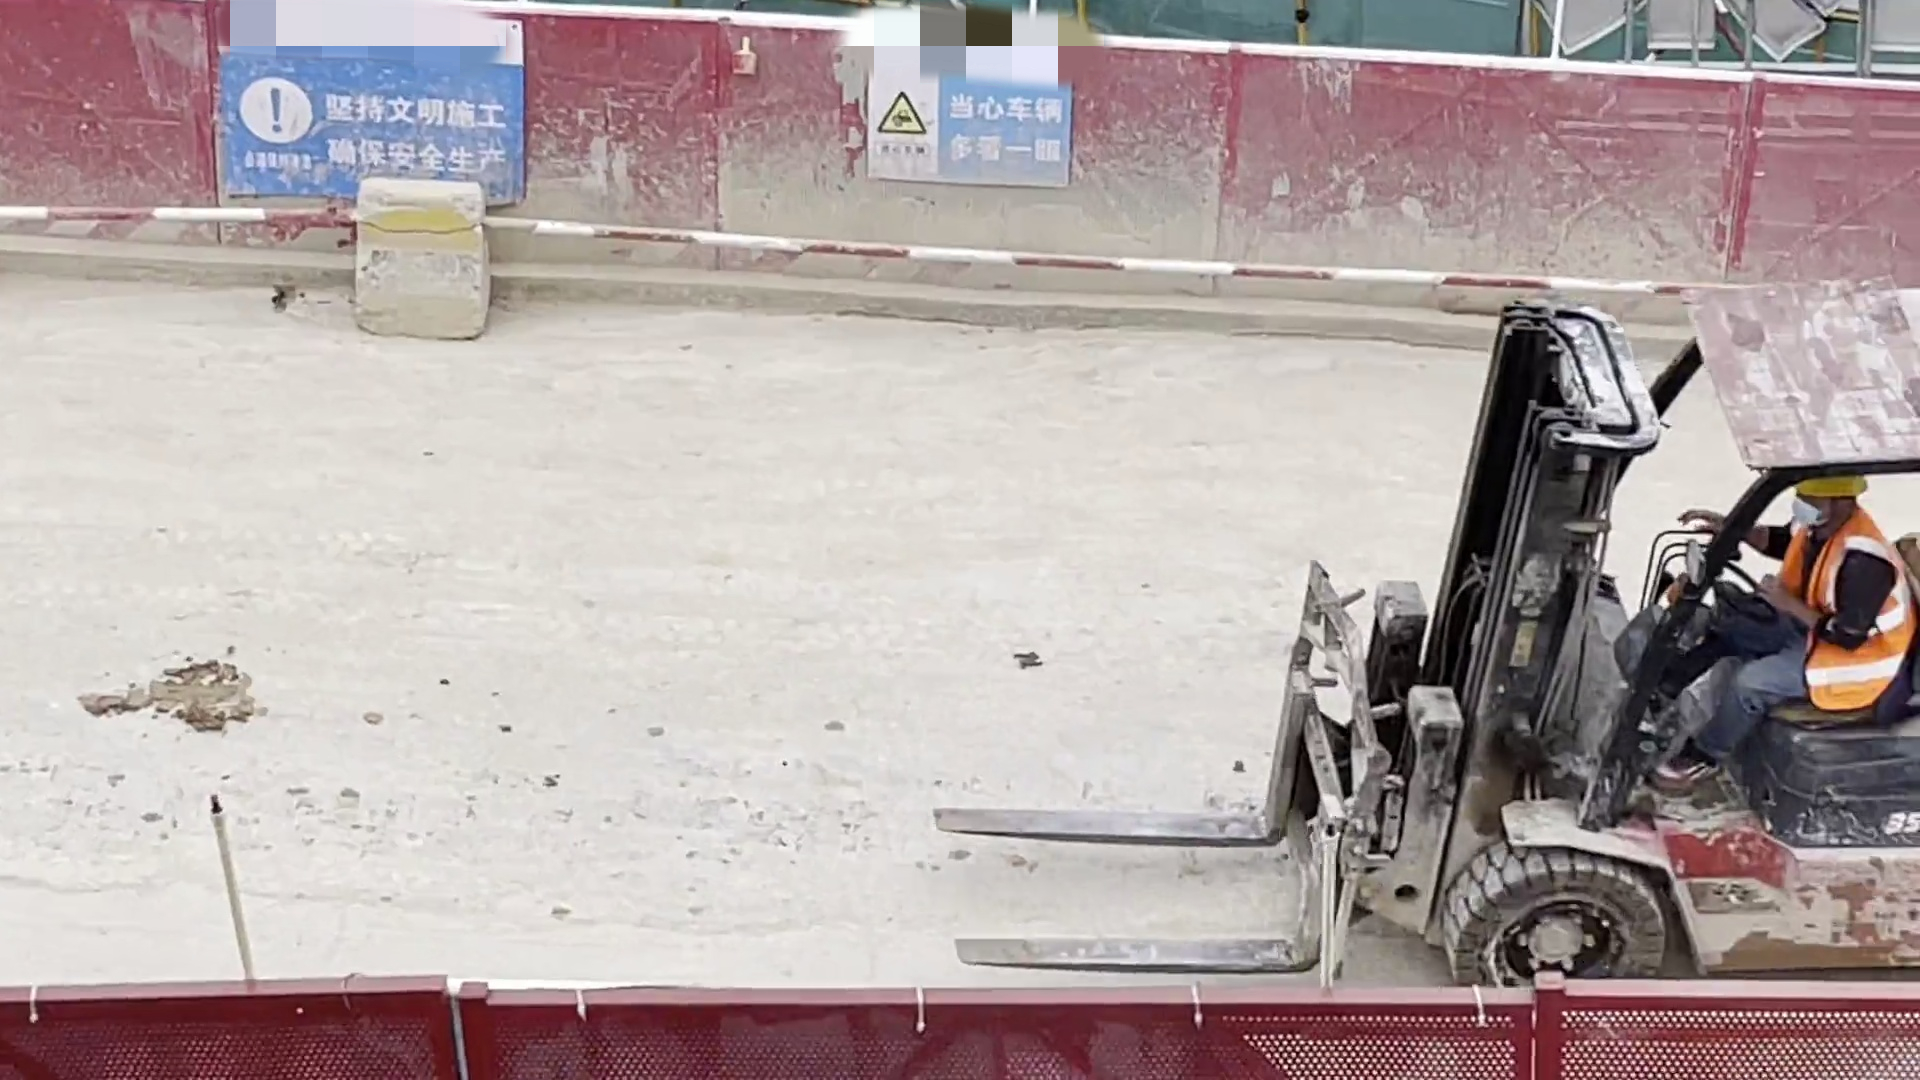fence: (3, 1, 1806, 308)
helmet: (1804, 463, 1882, 517)
person: (1670, 428, 1907, 821)
slogan: (202, 37, 550, 250), (860, 74, 1092, 209)
vest: (1788, 496, 1918, 730)
